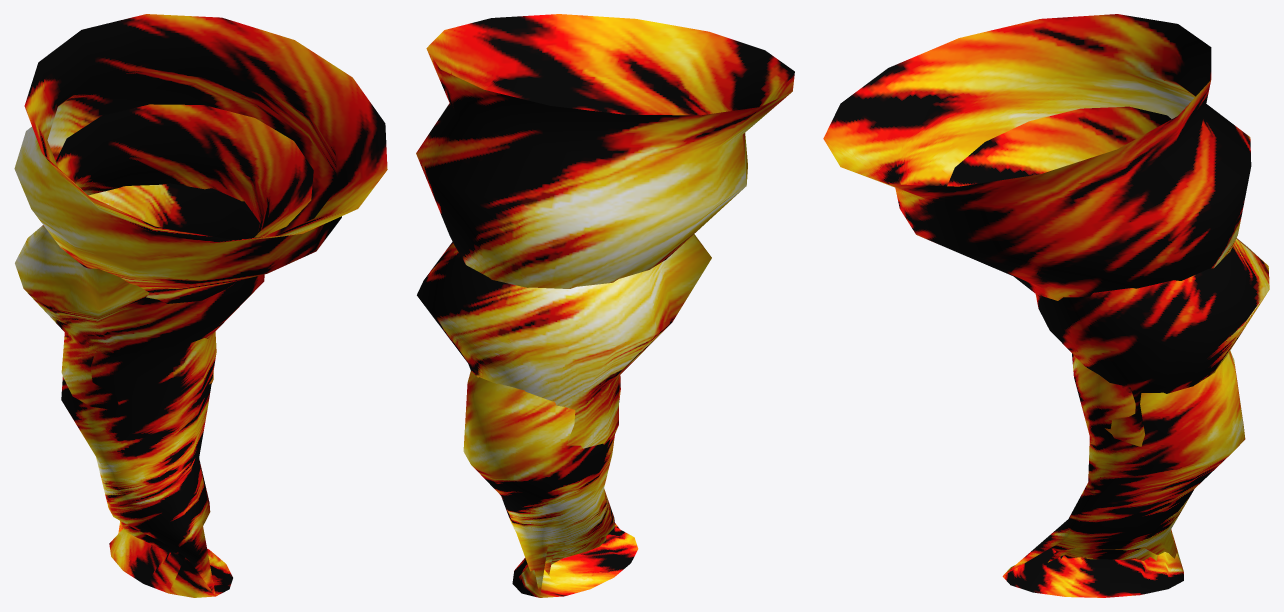
The model's file is fx_ys_kuangfengzhan_mesh.fbx.
3 views of the same model, side by side, from view 1: azimuth 30°, elevation 25°; view 2: azimuth 150°, elevation 25°; view 3: azimuth 270°, elevation 25° (orthographic). The views are drawn at different scales.
Parts seen in each view (by area): view 1: revolvedSurface2, revolvedSurface1; view 2: revolvedSurface2, revolvedSurface1; view 3: revolvedSurface2, revolvedSurface1.
Part boxes in pixels (left/top/right/bottom): revolvedSurface2: left=14, top=14, right=387, bottom=597; revolvedSurface1: left=15, top=104, right=313, bottom=560; revolvedSurface2: left=416, top=14, right=794, bottom=597; revolvedSurface1: left=417, top=234, right=711, bottom=575; revolvedSurface2: left=823, top=14, right=1251, bottom=597; revolvedSurface1: left=947, top=106, right=1269, bottom=562.
Bounding box in the file's own units: 94.93 × 146 × 115.
